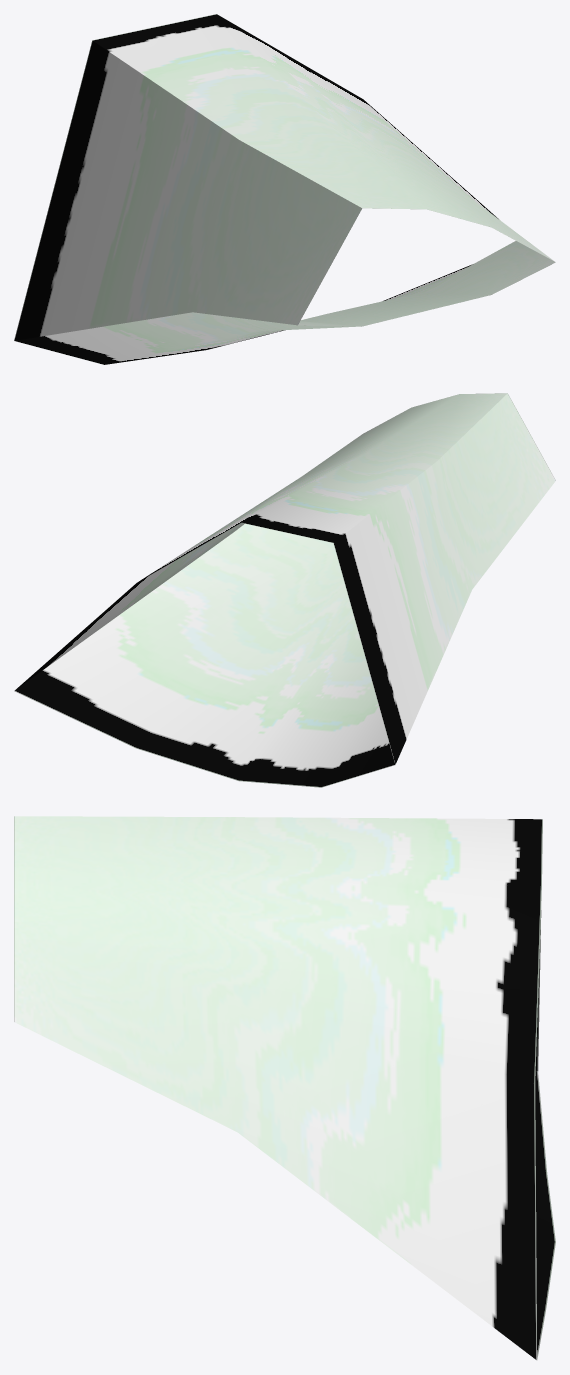
Rendered from rays_horizontal_01.obj.
The picture shows the model from 3 angles, top to bottom: view 1: azimuth 30°, elevation 25°; view 2: azimuth 150°, elevation 25°; view 3: azimuth 270°, elevation 25°; orthographic projection. The views are drawn at different scales.
Visible parts, largest first — view 1: obj1; view 2: obj1; view 3: obj1.
Part boxes in pixels (x1,y1,x2,y2): obj1: [14, 14, 555, 364]; obj1: [14, 393, 555, 787]; obj1: [14, 816, 555, 1360].
Bounding box in the file's own units: 4054 × 2695 × 3543.
1 material, 1 textured.
